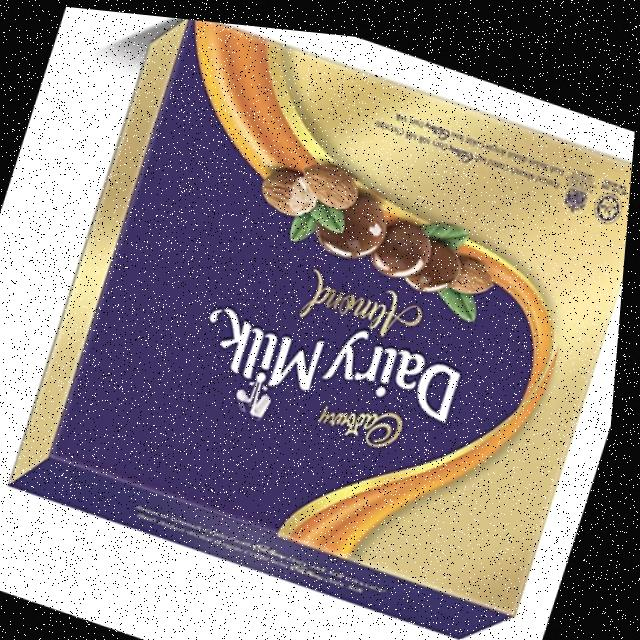cadbury: (5, 4, 640, 640)
